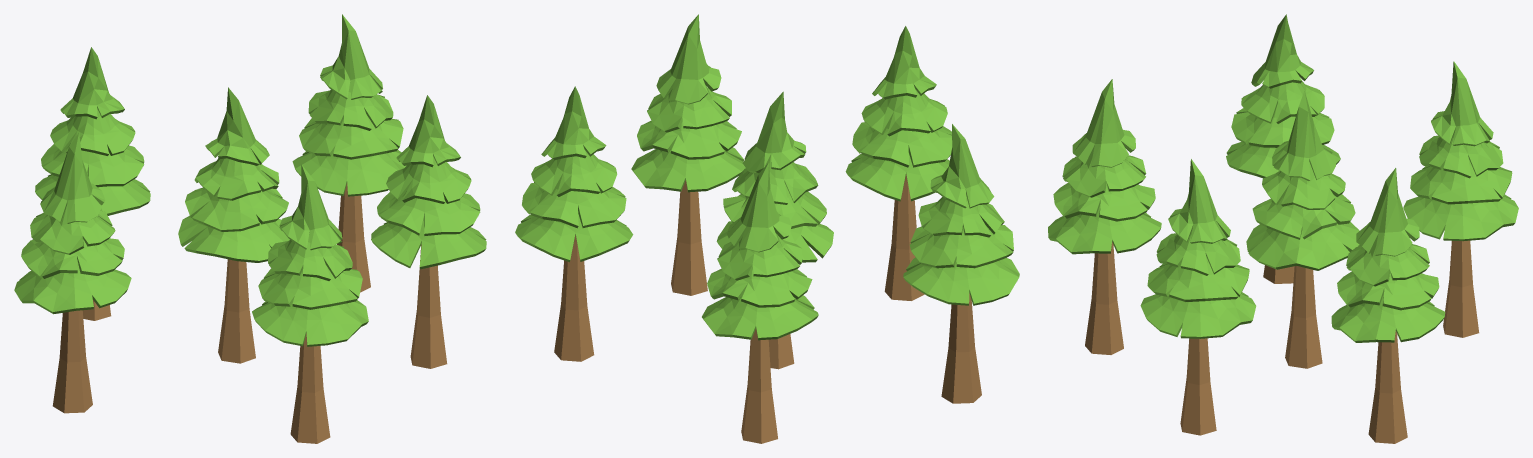
The model's file is SM_Tree_01.fbx.
The picture shows the model from 3 angles, left to right: view 1: azimuth 30°, elevation 25°; view 2: azimuth 150°, elevation 25°; view 3: azimuth 270°, elevation 25°; orthographic projection. The views are drawn at different scales.
Visible parts, largest first — view 1: SM_Tree_01; view 2: SM_Tree_01; view 3: SM_Tree_01.
Boxes of the visible parts, x1=… form: SM_Tree_01: x1=14, y1=14, x2=486, y2=443; SM_Tree_01: x1=515, y1=14, x2=1019, y2=443; SM_Tree_01: x1=1048, y1=14, x2=1518, y2=443.
Size of the model in its own units: 468 by 280 by 448.
